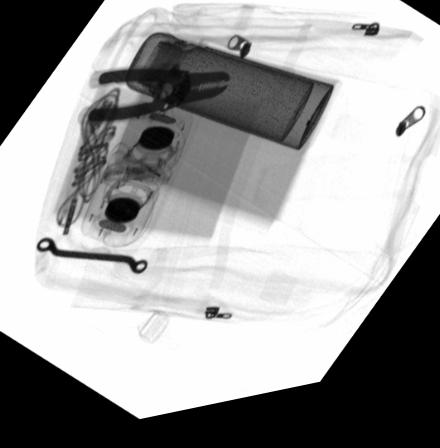Pliers: (77, 70, 232, 125)
Wrench: (35, 238, 149, 279)
